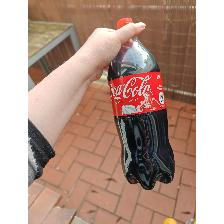Soda: (106, 15, 177, 194)
